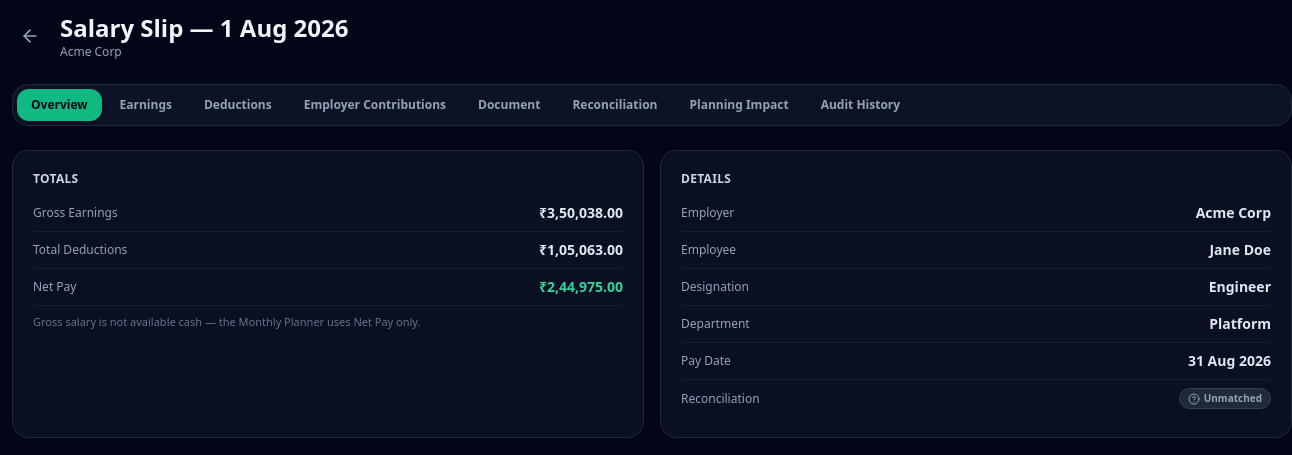
Test: SalarySlipDetail › Reconciliation tab › never labels a candidate as a Suggested Match unless the record's own reconciliationStatus is SUGGESTED — no fabricated confidence
What coordinates should you click on to do the following:
click the tab "Reconciliation"
I would click on:
 (615, 105)
Its box is [558,89,672,121].
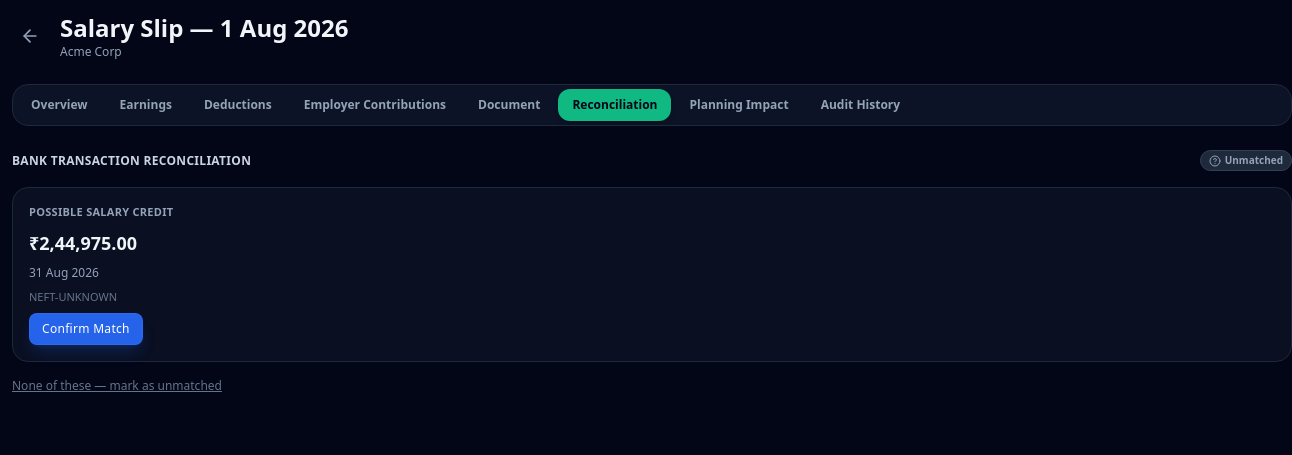
Expected: the text "Possible Salary Credit" is shown, [29,204,173,219]
